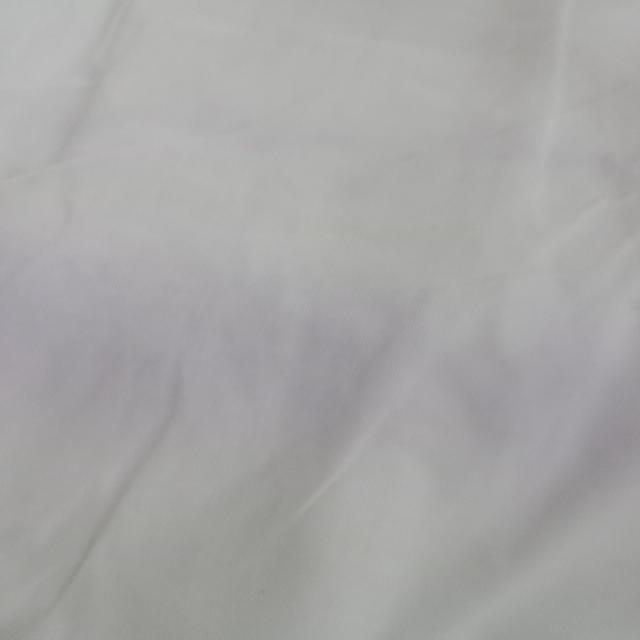stain: (0, 246, 589, 424)
